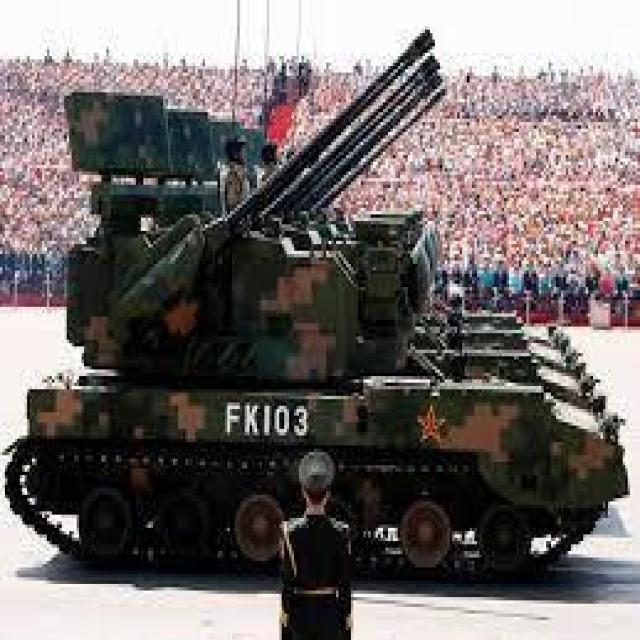MIL_MBT: (11, 40, 609, 600)
